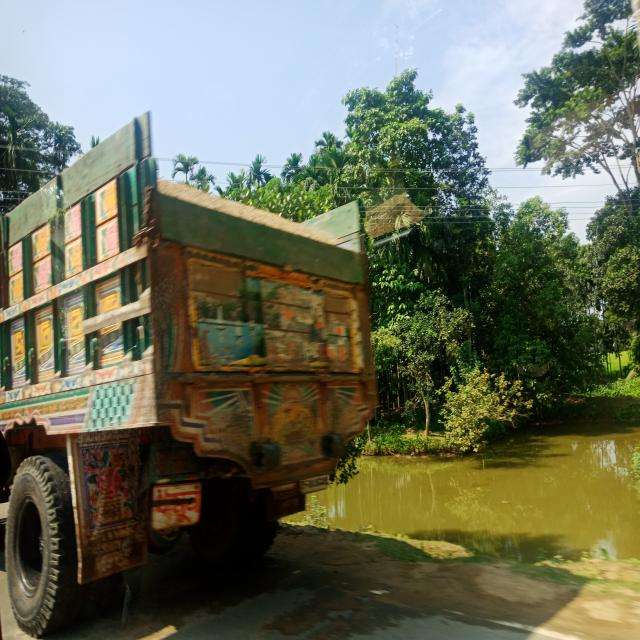truck: (0, 93, 383, 637)
